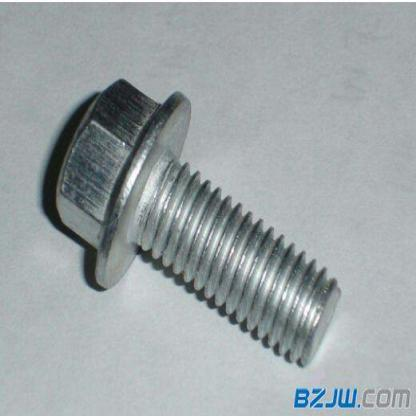FOD: (43, 72, 343, 370)
